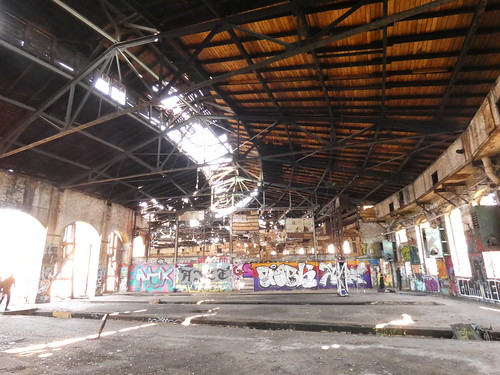graffiti: (260, 259, 363, 295), (127, 256, 230, 292), (402, 276, 451, 296), (451, 280, 500, 300)
